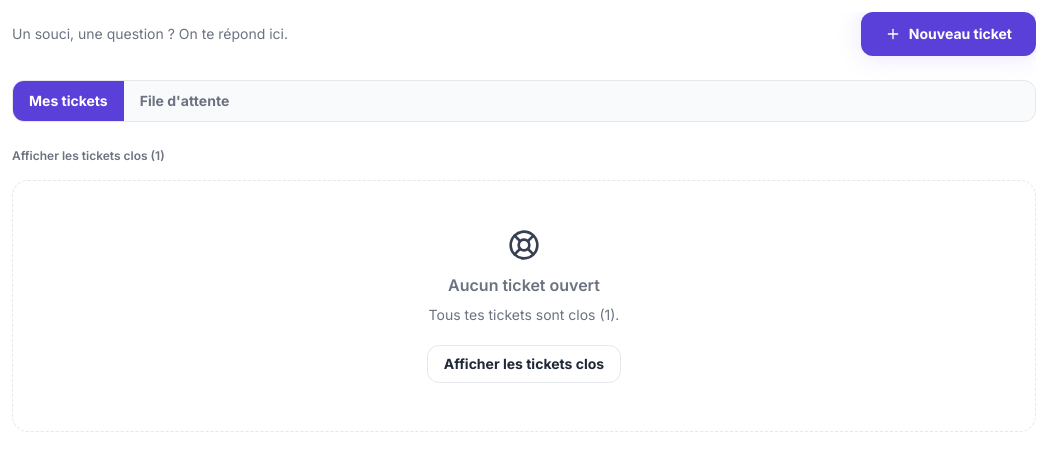
Scenario: SupportTab -- la "File d'attente" admin n'est jamais filtree › montre les tickets clos sans aucune action -- un admin doit toujours voir l'historique complet
Click the button "File d'attente": (184, 101) top-left (124, 81), bottom-right (245, 121)
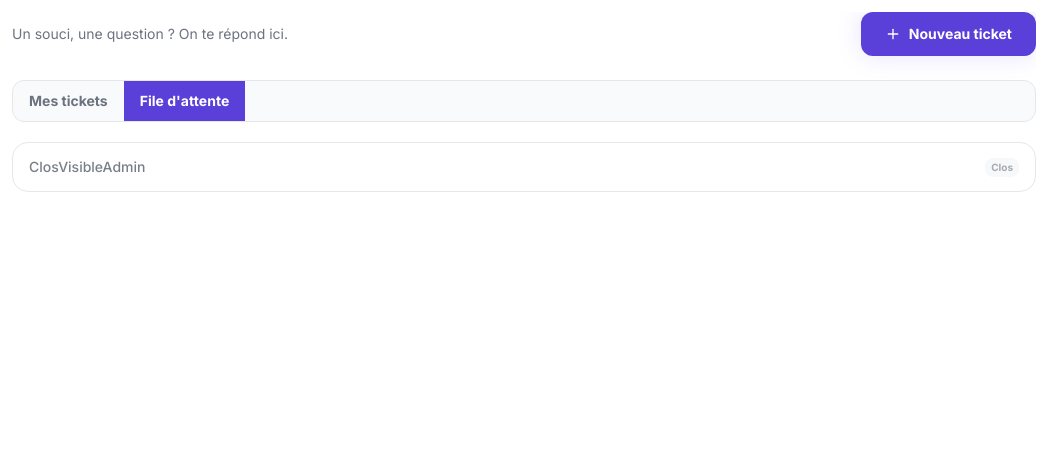
Now the text "ClosVisibleAdmin" is shown, box top-left (29, 157), bottom-right (146, 177)
Now the button "tickets clos" is gone
